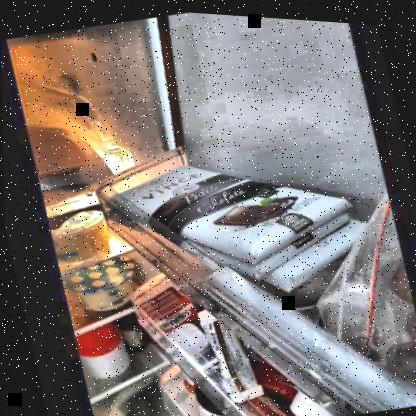chocolate: (108, 134, 354, 295)
salami: (27, 119, 95, 182)
yoghurt: (63, 259, 140, 315), (48, 217, 113, 265)
